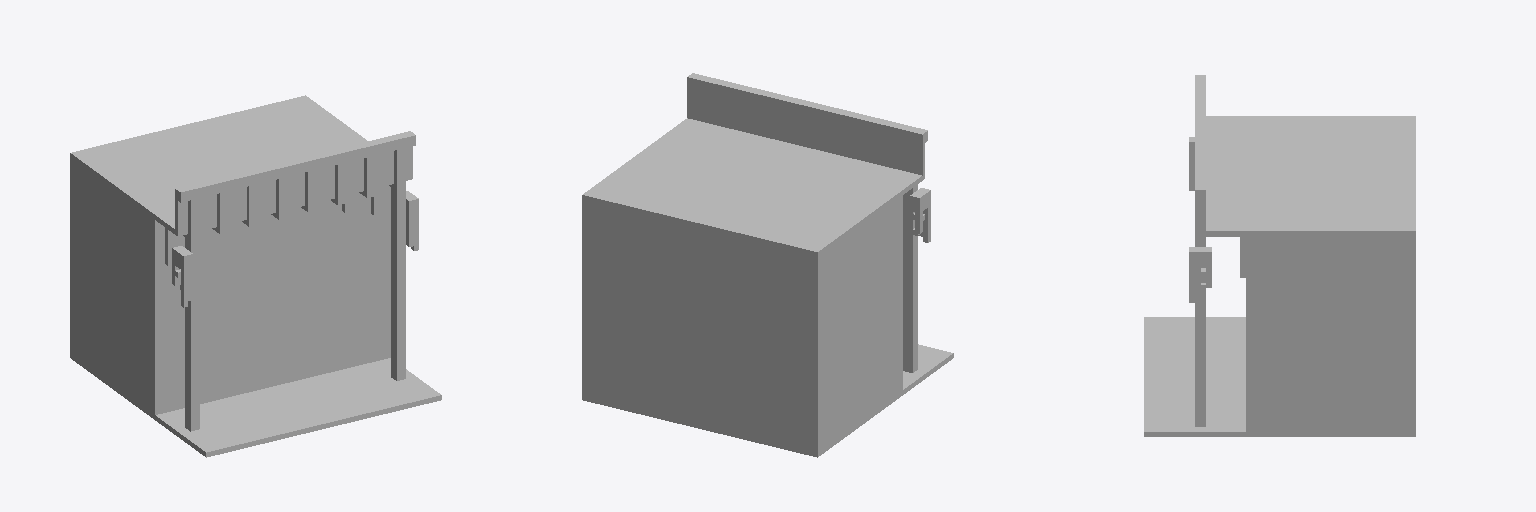
The model's file is villaRedLowerWall-0.obj.
3 renders of one model, left to right at view 1: azimuth 30°, elevation 25°; view 2: azimuth 150°, elevation 25°; view 3: azimuth 270°, elevation 25°, orthographic.
Visible parts, largest first — view 1: object 1; view 2: object 1; view 3: object 1.
Part boxes in pixels (bbox=[...]): object 1: bbox=[70, 95, 441, 457]; object 1: bbox=[582, 73, 953, 457]; object 1: bbox=[1144, 75, 1415, 436].
Size of the model in its own units: 4.8 by 4.8 by 4.8.